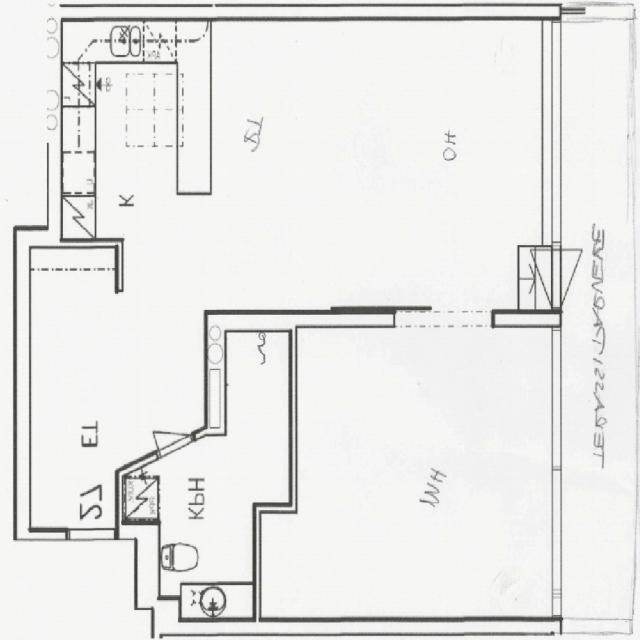door: (68, 528, 116, 602), (507, 249, 561, 309), (553, 249, 607, 309), (146, 390, 194, 456)
